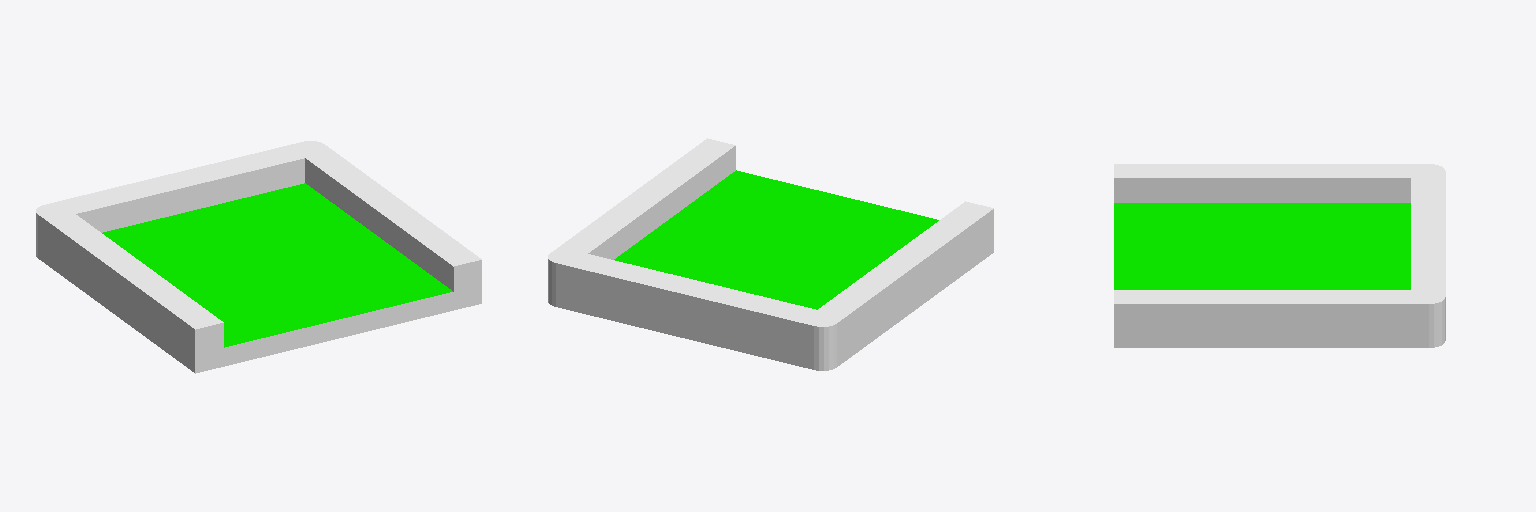
The model's file is start1.obj.
The picture shows the model from 3 angles: view 1: azimuth 30°, elevation 25°; view 2: azimuth 150°, elevation 25°; view 3: azimuth 270°, elevation 25°; orthographic projection.
Visible parts, largest first — view 1: start group1; view 2: start group1; view 3: start group1.
Boxes of the visible parts, box(x1,y1,x2,y2) form: start group1: box(36, 141, 481, 373); start group1: box(548, 138, 993, 370); start group1: box(1114, 164, 1445, 347).
Bounding box in the file's own units: 3 × 0.44 × 3.